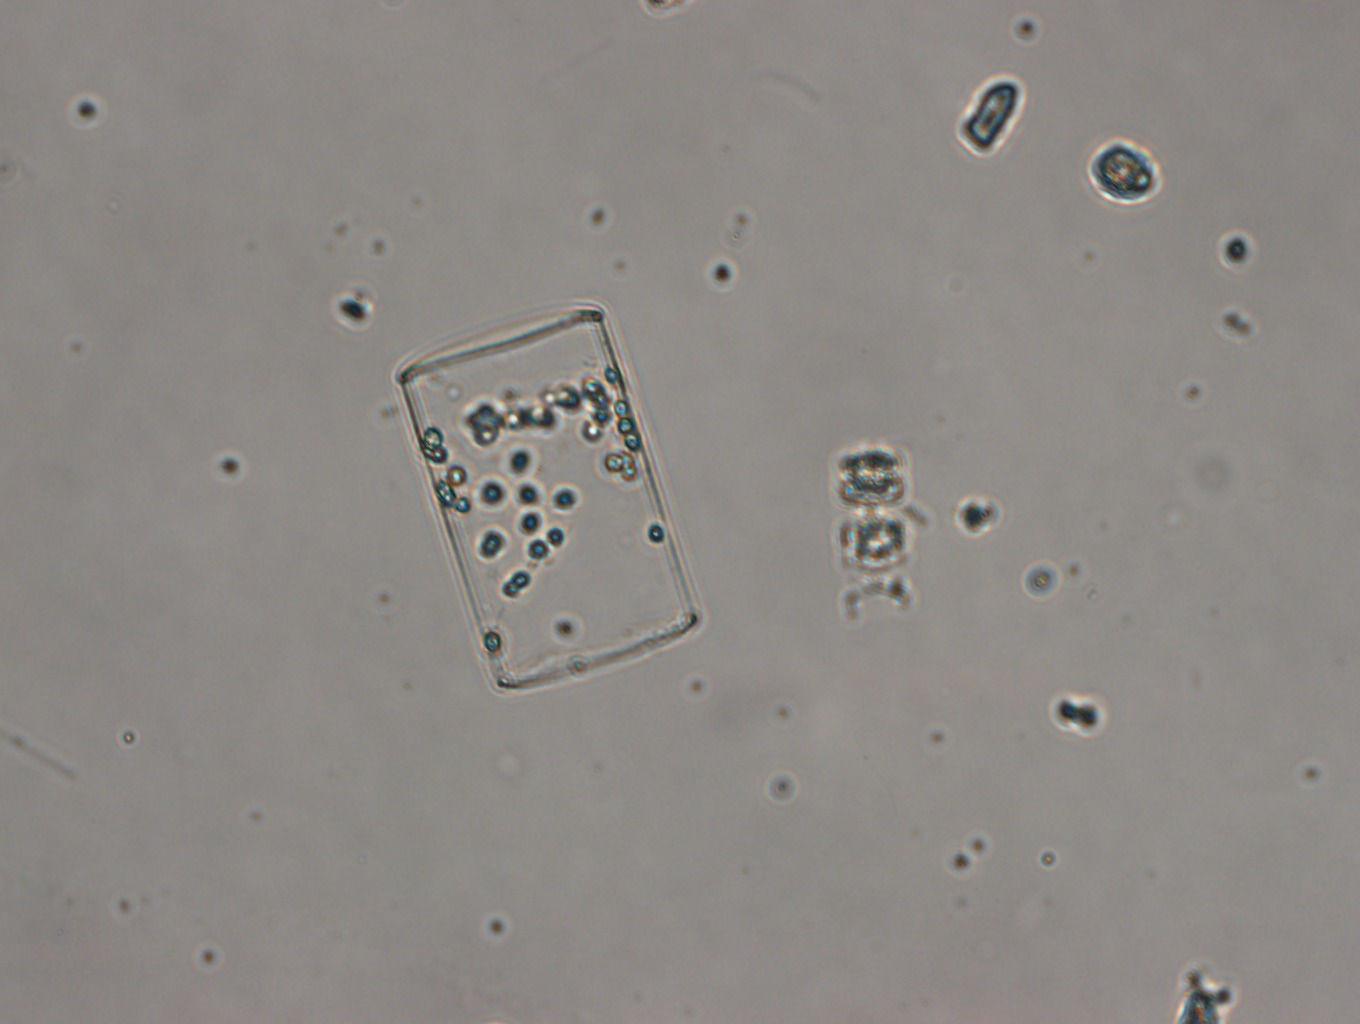guinardia flaccida: (393, 298, 707, 697)
